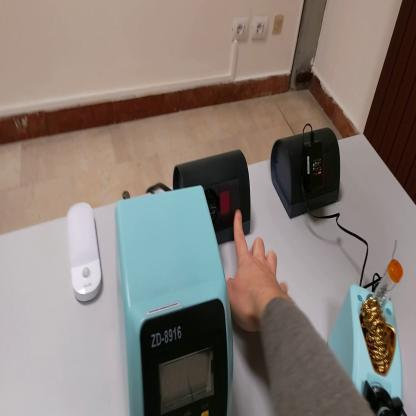hand: (226, 210, 287, 332)
socket: (170, 145, 252, 245), (270, 126, 345, 220)
welder base: (329, 237, 406, 416)
welder station: (115, 185, 235, 416)
